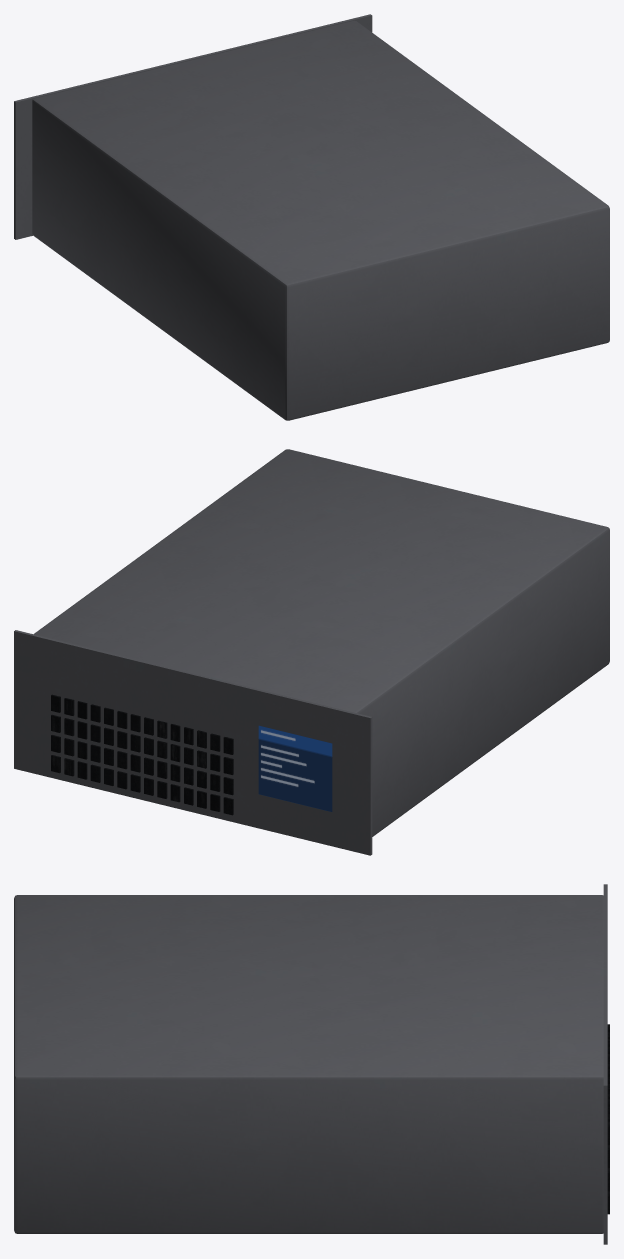
Rendered from media_server_guise.gltf.
3 views of the same model, one above another, from view 1: azimuth 30°, elevation 25°; view 2: azimuth 150°, elevation 25°; view 3: azimuth 270°, elevation 25° (orthographic). The views are drawn at different scales.
Visible parts, largest first — view 1: media_server_guise; view 2: media_server_guise; view 3: media_server_guise.
Boxes of the visible parts, x1,y1,x2,y2 form: media_server_guise: (14, 14, 609, 420); media_server_guise: (14, 449, 609, 855); media_server_guise: (14, 884, 609, 1244).
Bounding box in the file's own units: 0.483 × 0.178 × 0.6045.
3 materials, 3 textured.
